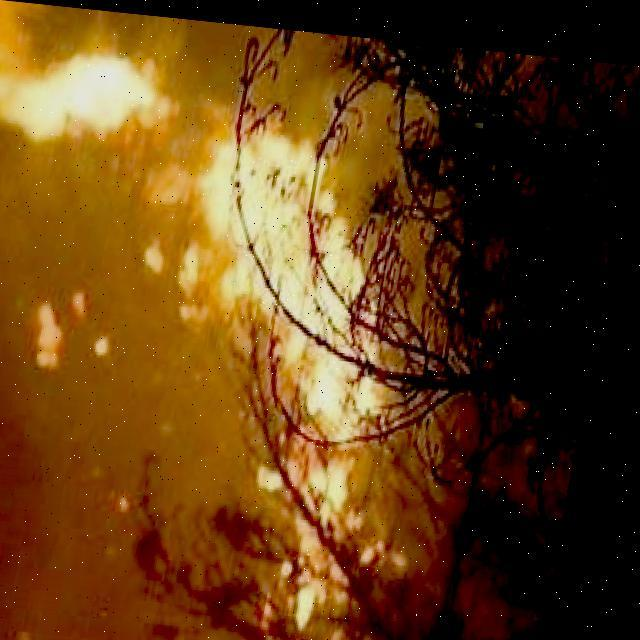Fire: (106, 90, 478, 639), (0, 2, 186, 154), (37, 282, 100, 372)
